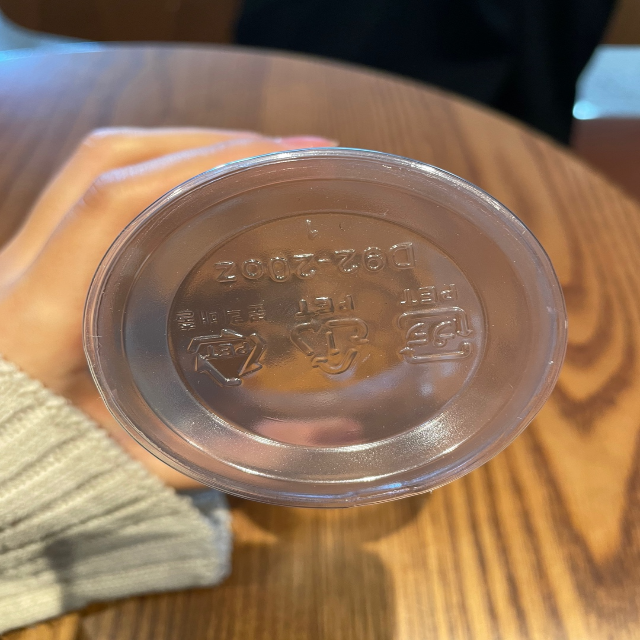pet: (164, 296, 282, 398), (279, 286, 380, 382), (387, 278, 484, 370)
